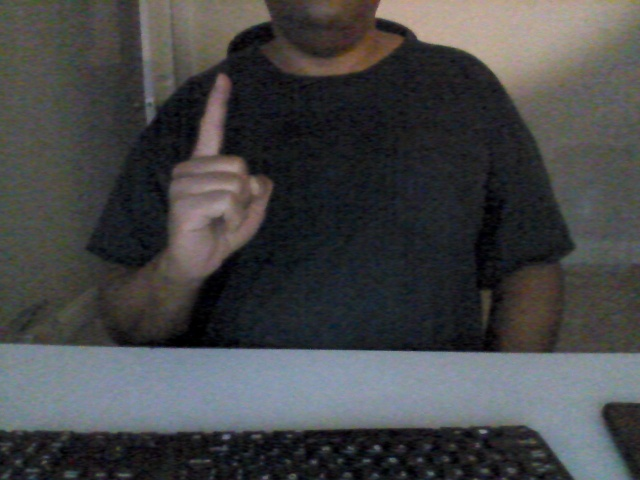up: (158, 68, 274, 288)
